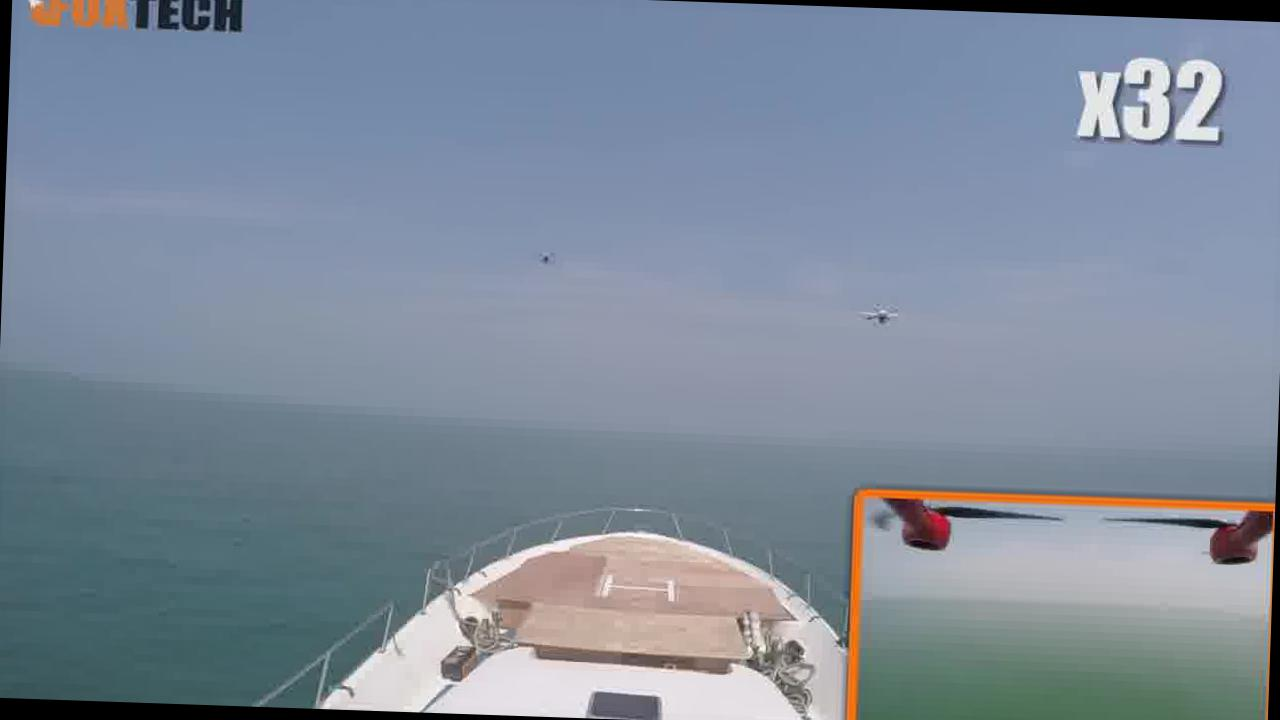drone: (858, 292, 908, 342), (526, 236, 571, 272)
